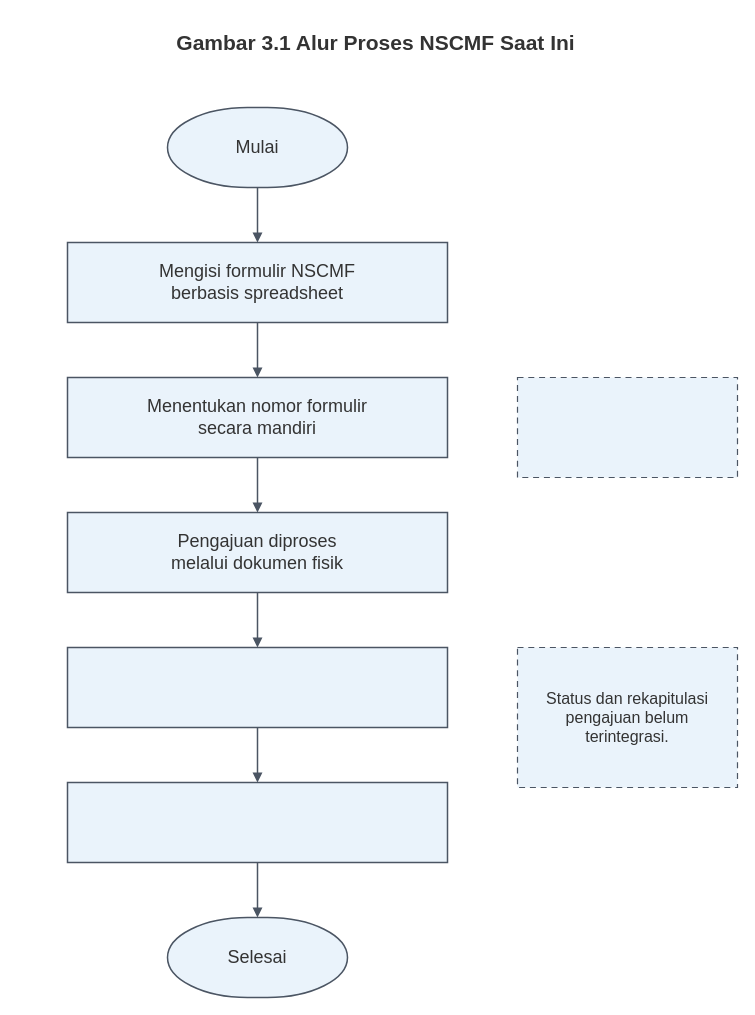
Image size: 755x1015. Some labels were removed from this diagram. Here are the shapes that lost their labels. From the top down, the centre of each, then its label:
the point at 627,427: Penomoran belum terpusat.
the point at 257,687: Proses Review menggunakan dokumen fisik
the point at 257,822: Proses Approval menggunakan dokumen fisik
